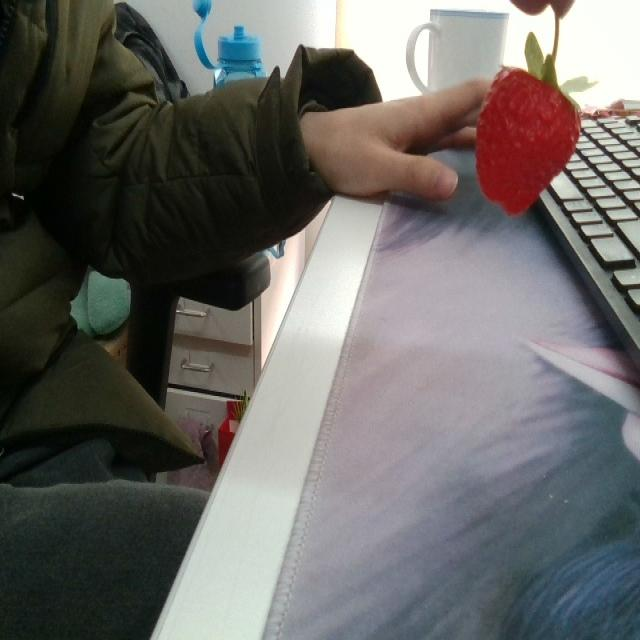mature: (475, 63, 581, 216)
